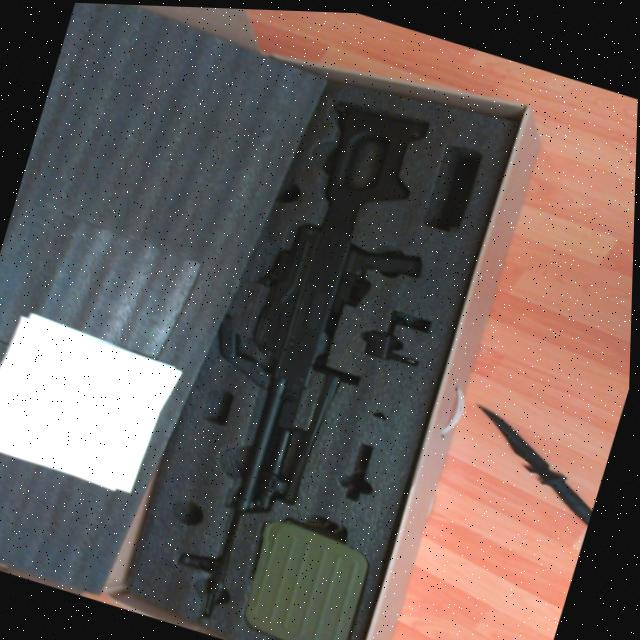firearm: (167, 84, 465, 640)
knife: (451, 394, 616, 532)
